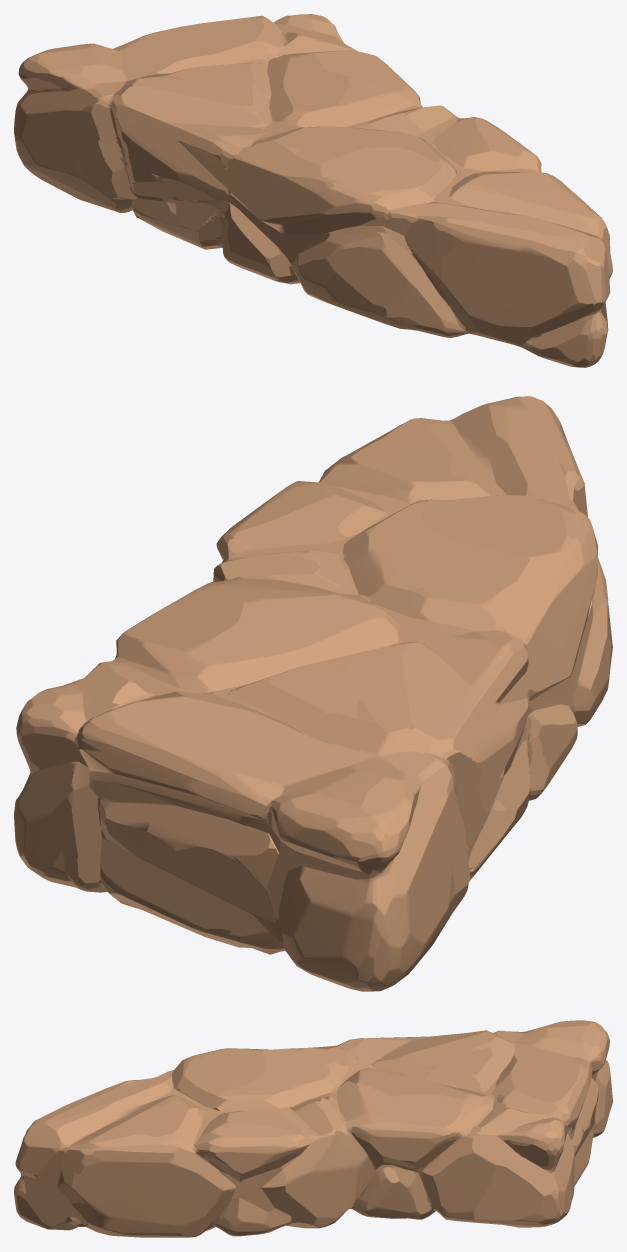
3 renders of one model, top to bottom at view 1: azimuth 30°, elevation 25°; view 2: azimuth 150°, elevation 25°; view 3: azimuth 270°, elevation 25°, orthographic. The views are drawn at different scales.
Parts seen in each view (by area): view 1: Mesh_39_LOD0; view 2: Mesh_39_LOD0; view 3: Mesh_39_LOD0.
Boxes of the visible parts, left/top/right/bottom form: Mesh_39_LOD0: left=14, top=14, right=612, bottom=367; Mesh_39_LOD0: left=14, top=396, right=612, bottom=991; Mesh_39_LOD0: left=14, top=1020, right=612, bottom=1237.
Size of what is drawn, in the model's own units: 2159 by 954 by 4311.
